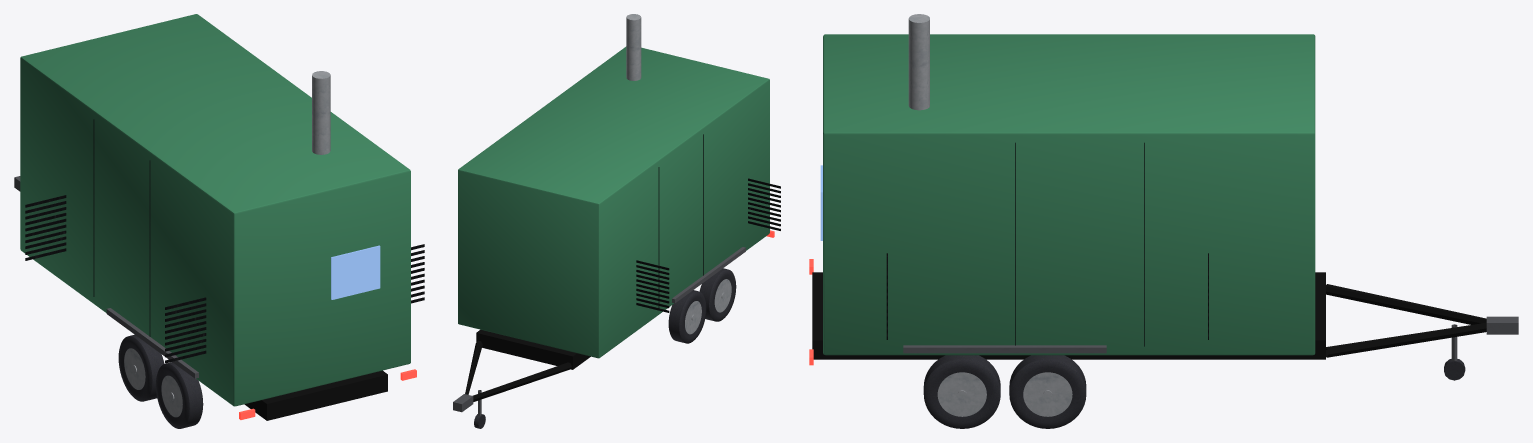
Rendered from generator_trailer_green.gltf.
3 renders of one model, left to right at view 1: azimuth 30°, elevation 25°; view 2: azimuth 150°, elevation 25°; view 3: azimuth 270°, elevation 25°, orthographic. The views are drawn at different scales.
Visible parts, largest first — view 1: generator_trailer_green; view 2: generator_trailer_green; view 3: generator_trailer_green.
Part boxes in pixels (x1=…): generator_trailer_green: x1=14, y1=14, x2=424, y2=428; generator_trailer_green: x1=453, y1=14, x2=780, y2=428; generator_trailer_green: x1=809, y1=14, x2=1518, y2=428.
Size of the model in its own units: 3.21 by 3.95 by 6.63.
11 materials, 7 textured.
